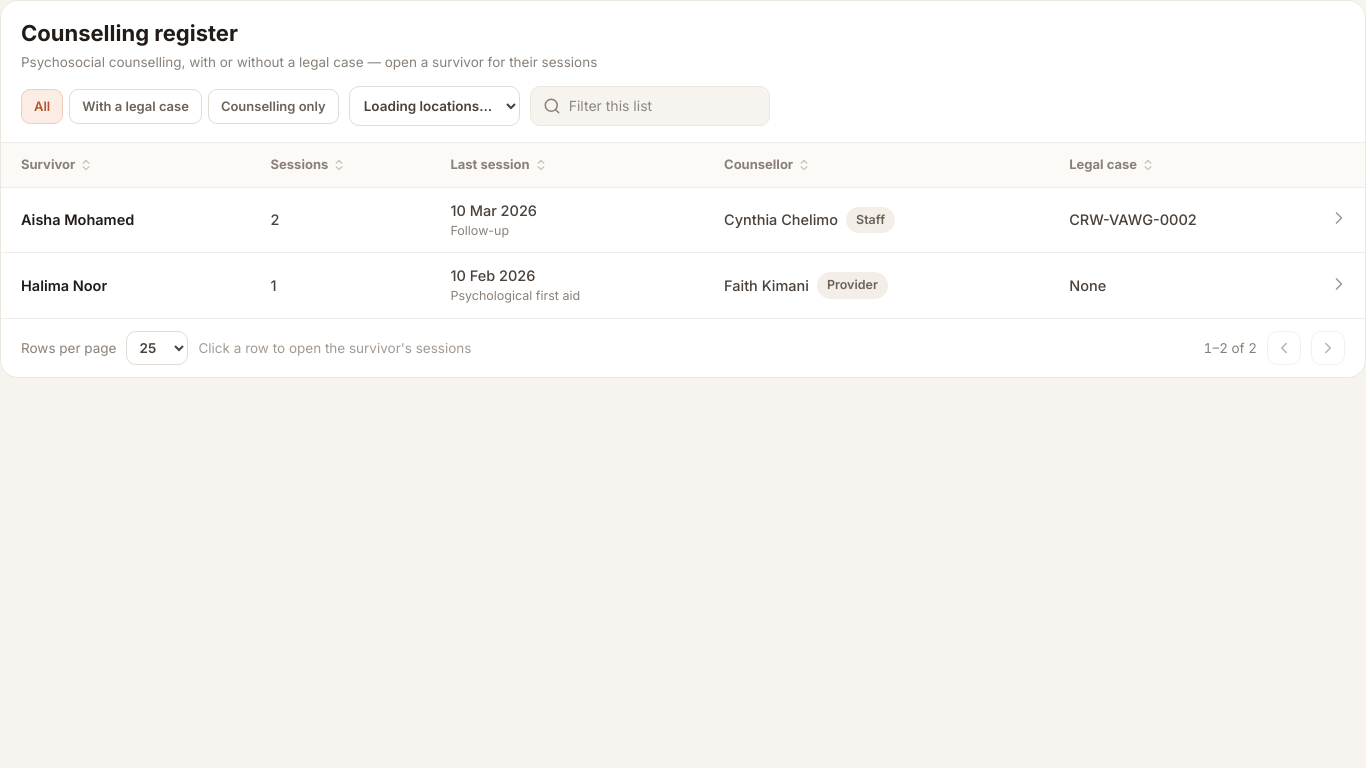
Scenario: survivor drawer › disables logging without permission
Click the button named "Open counselling for Halima Noor": click(1339, 284) [1327,272,1351,296]
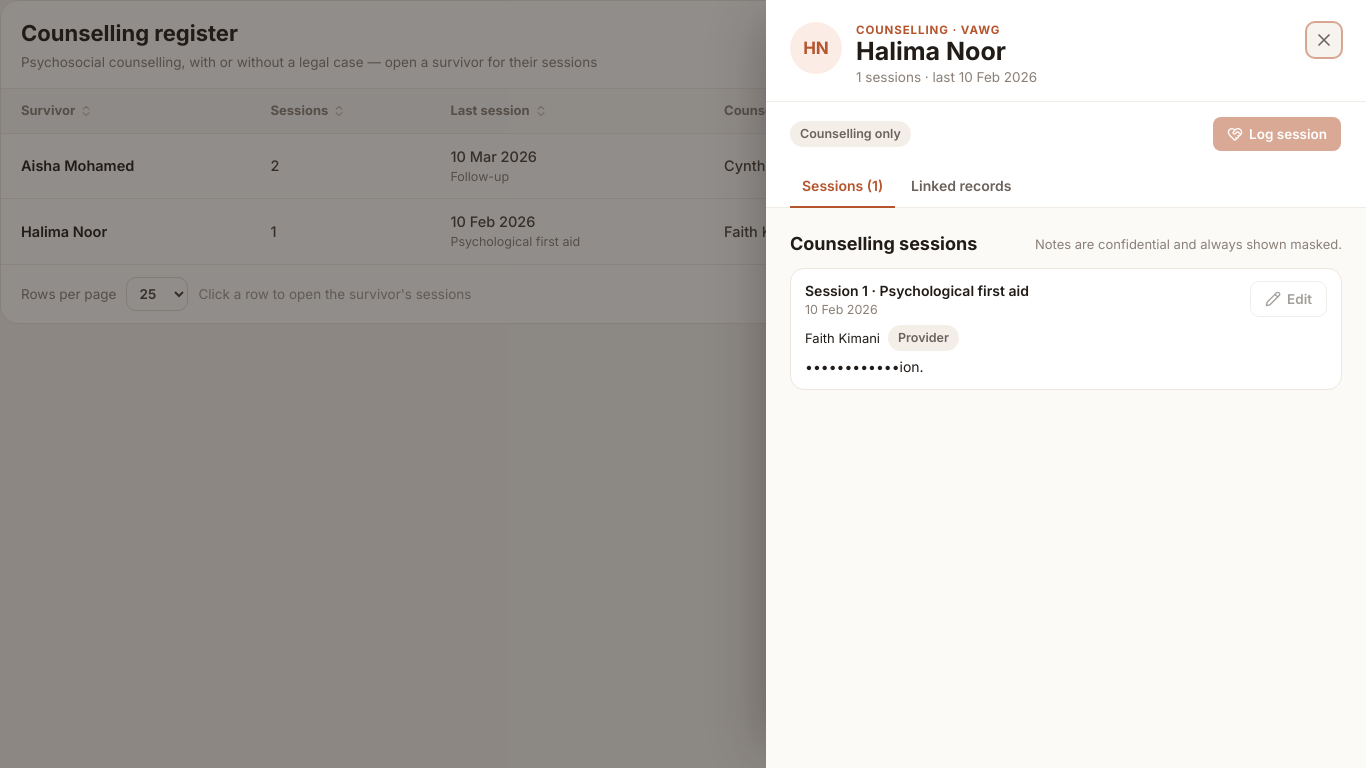
Result: the button "Log session" is disabled at [1212,116,1342,152]
Result: the button with aria-label "Edit session 1" is disabled at [1250,281,1327,317]
